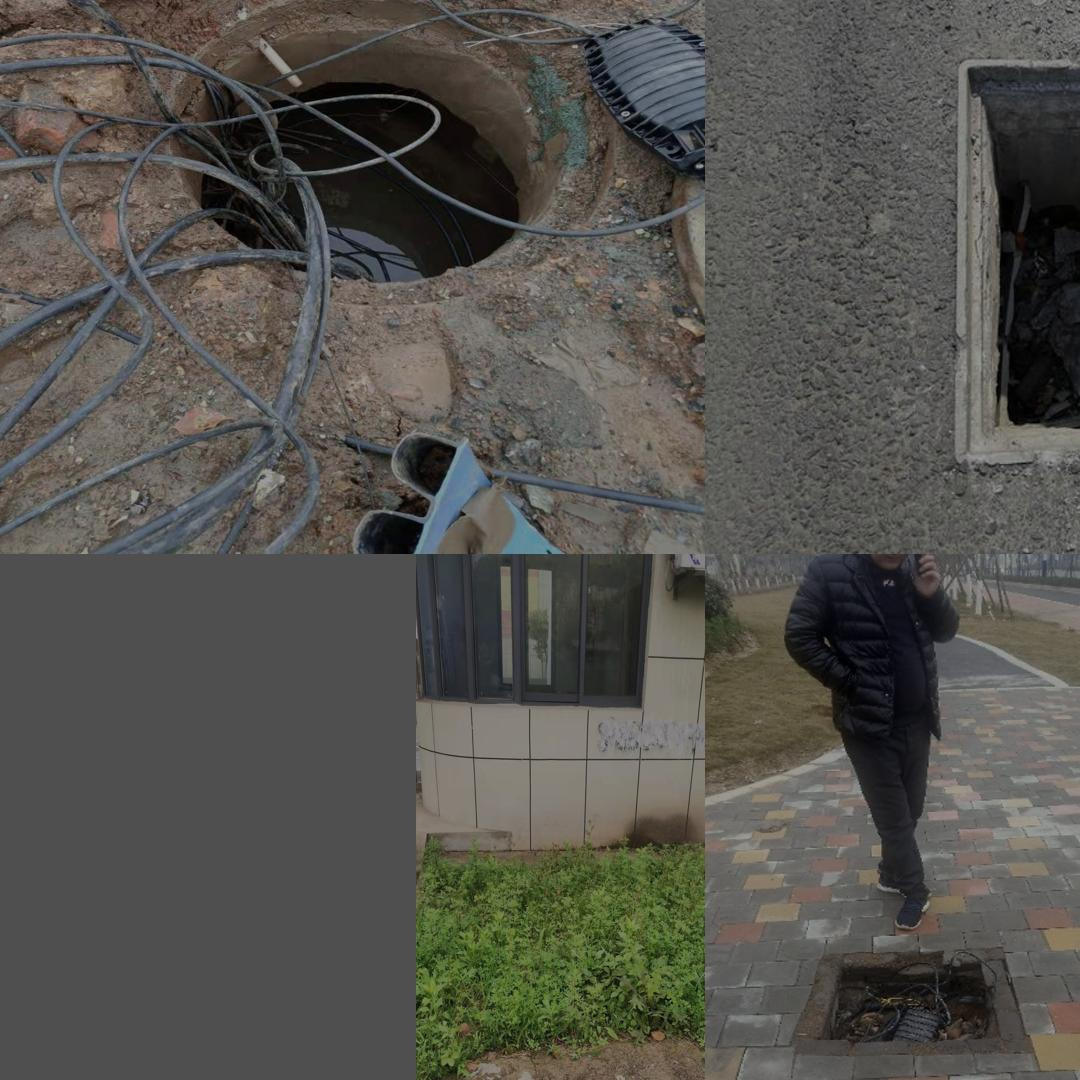lose: (141, 0, 625, 316), (920, 26, 1080, 462), (817, 960, 1007, 1042)
